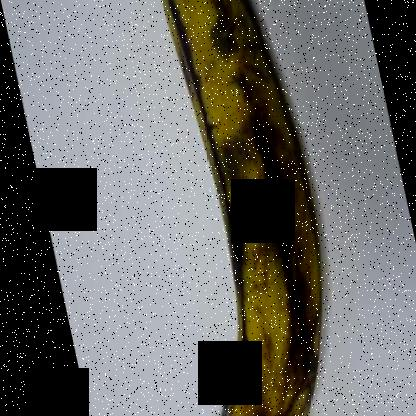overripe: (144, 1, 339, 416)
